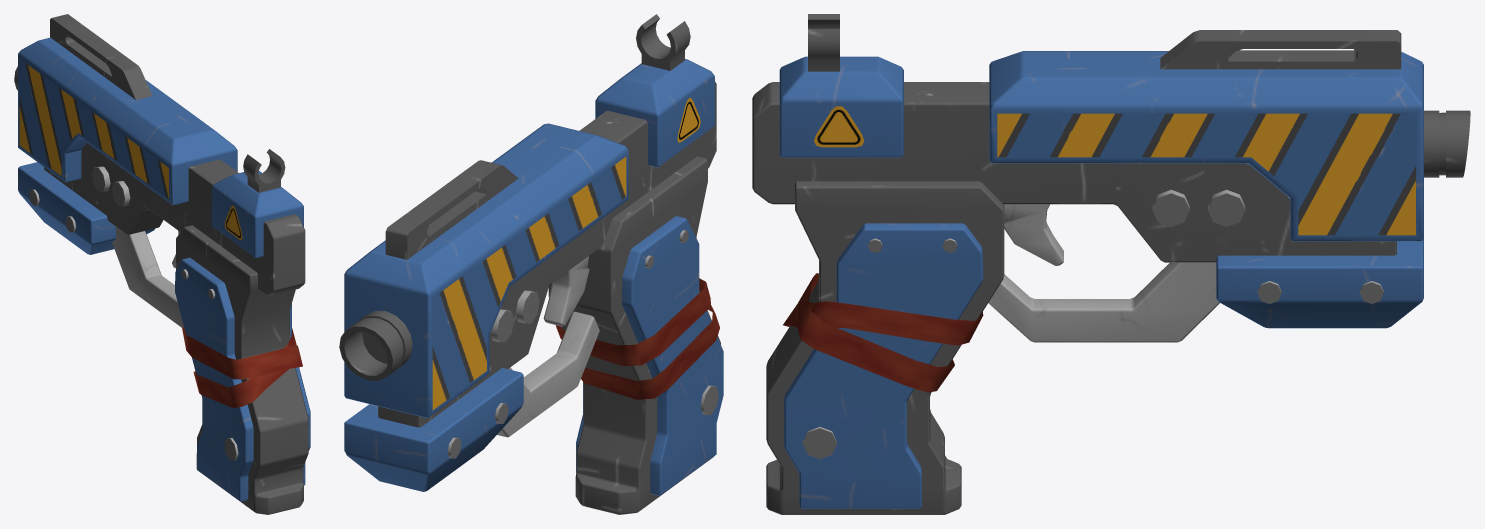
File: gun normal.fbx
3 renders of one model, left to right at view 1: azimuth 30°, elevation 25°; view 2: azimuth 150°, elevation 25°; view 3: azimuth 270°, elevation 25°, orthographic. The views are drawn at different scales.
Visible parts, largest first — view 1: gun_normal; view 2: gun_normal; view 3: gun_normal.
Boxes of the visible parts, <box> form: gun_normal: <box>14,14,310,514</box>; gun_normal: <box>339,14,723,514</box>; gun_normal: <box>752,14,1470,514</box>.
Size of what is drawn, in the model's own units: 4.24 by 25.67 by 18.85.
